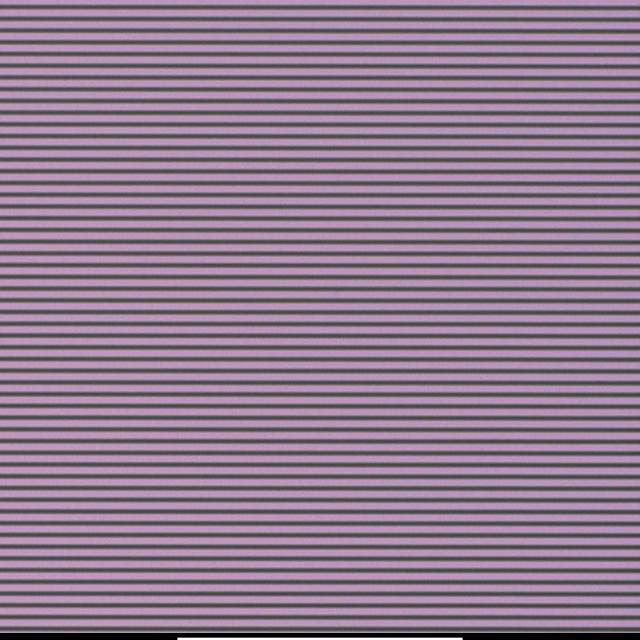nonvisual: (334, 284, 344, 296)
